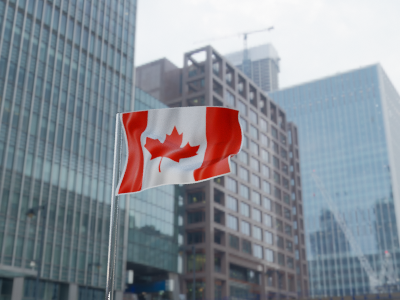Canada flag: (116, 106, 243, 196)
